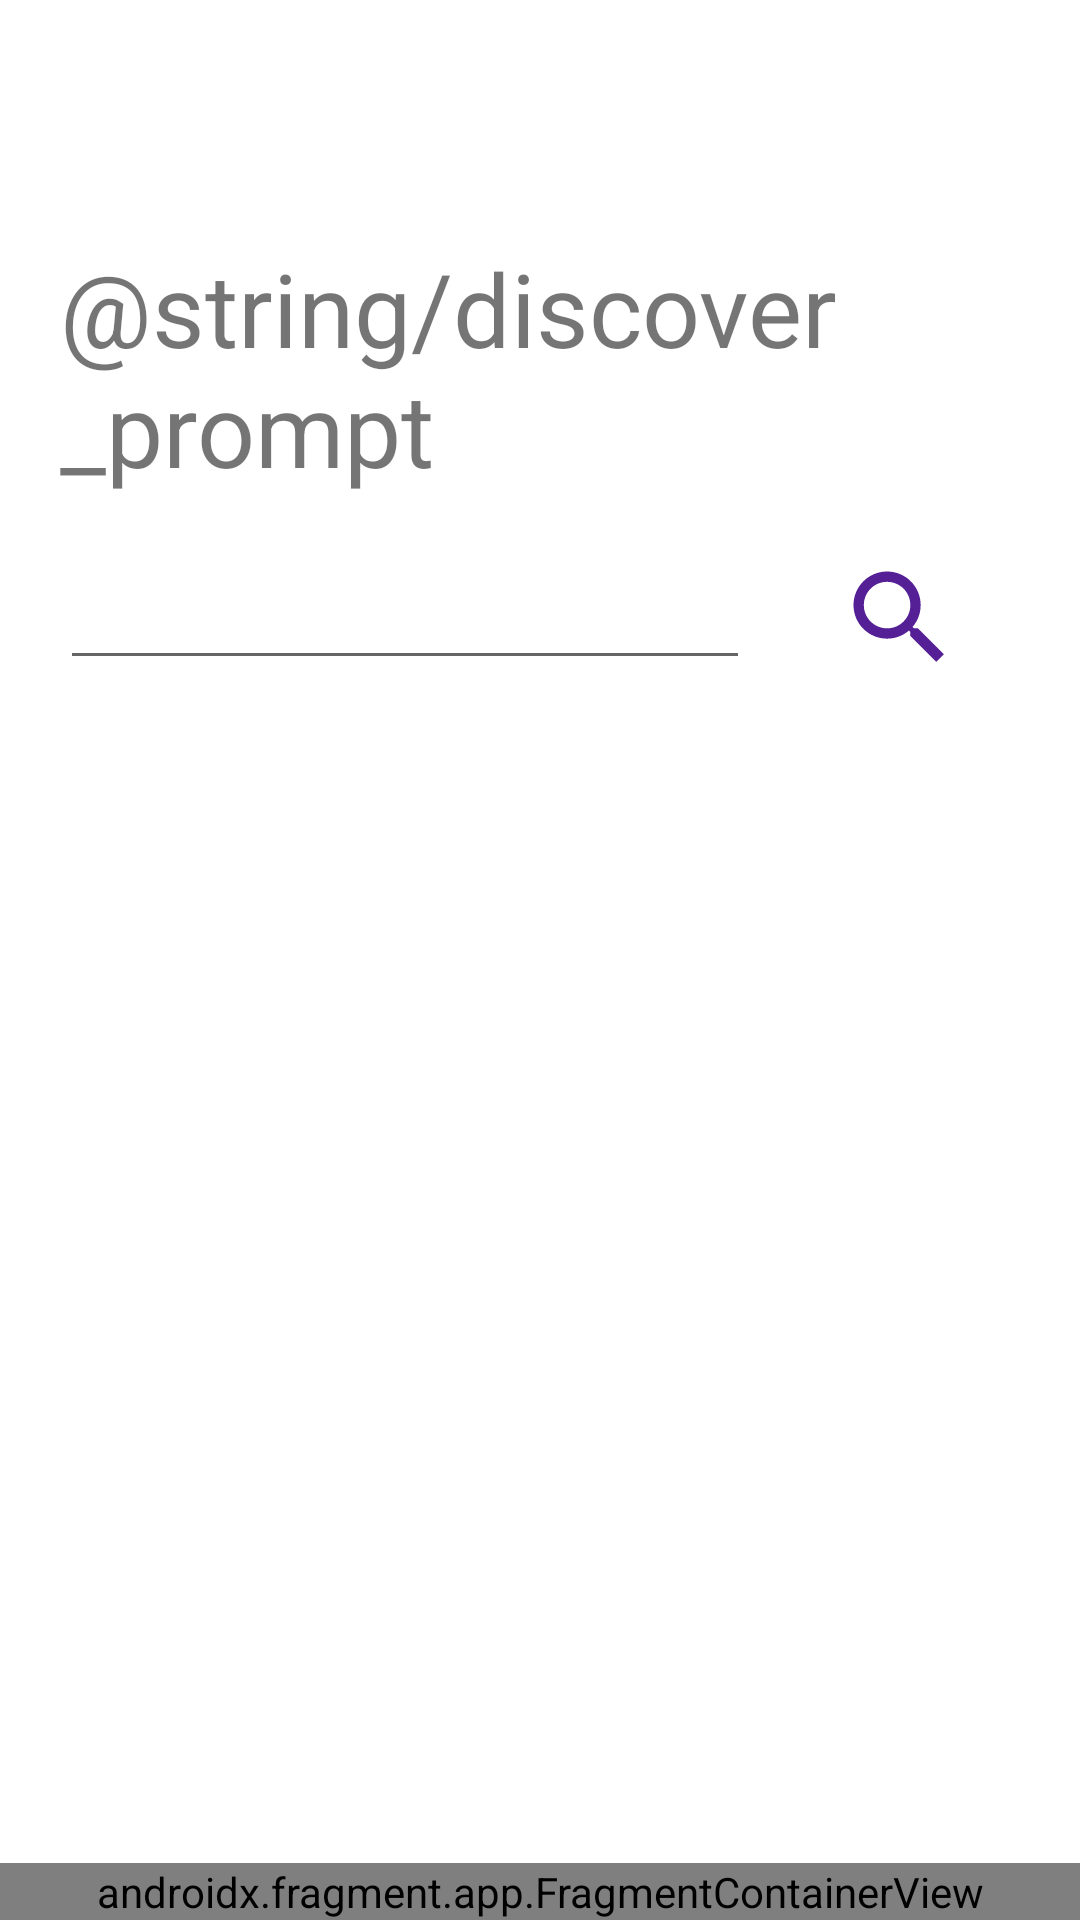

Named icons in this screenshot (1080px x 1920px) and their centers, (x,y):
search: (898,616)
